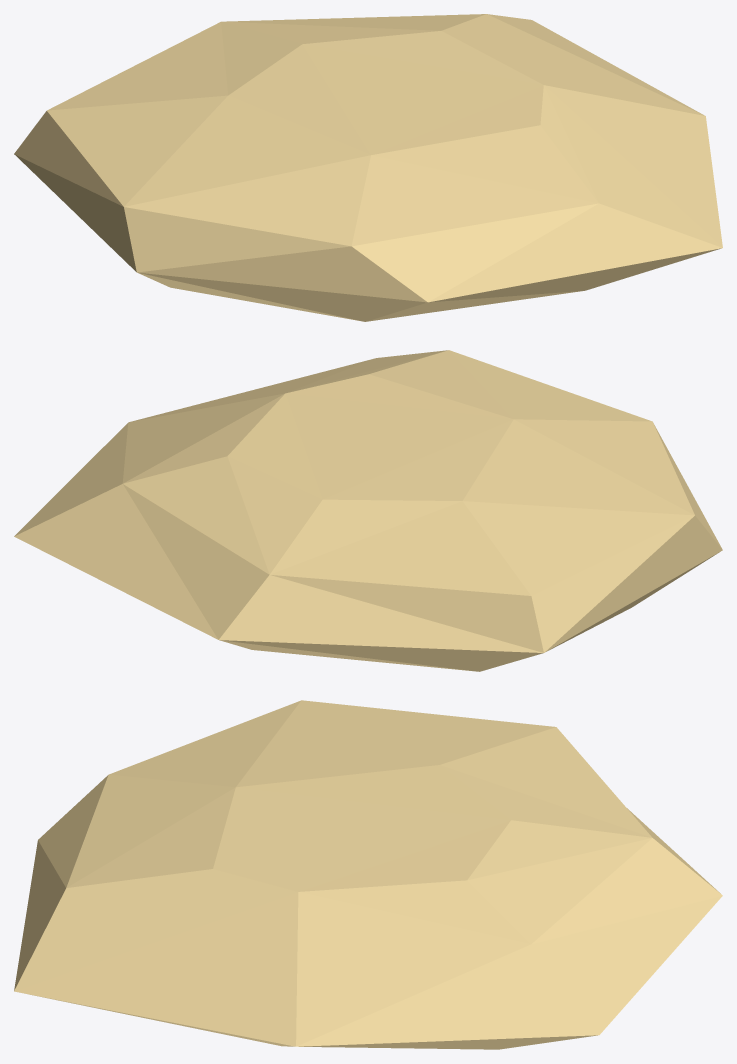
File: terra_sand_hill.fbx
The picture shows the model from 3 angles, top to bottom: view 1: azimuth 30°, elevation 25°; view 2: azimuth 150°, elevation 25°; view 3: azimuth 270°, elevation 25°; orthographic projection. The views are drawn at different scales.
Visible parts, largest first — view 1: terra_sand_hill; view 2: terra_sand_hill; view 3: terra_sand_hill.
Part boxes in pixels (<box>): terra_sand_hill: <box>14,14,722,321</box>; terra_sand_hill: <box>14,350,722,671</box>; terra_sand_hill: <box>14,700,722,1049</box>.
Bounding box in the file's own units: 1.5 × 0.3 × 1.5.
